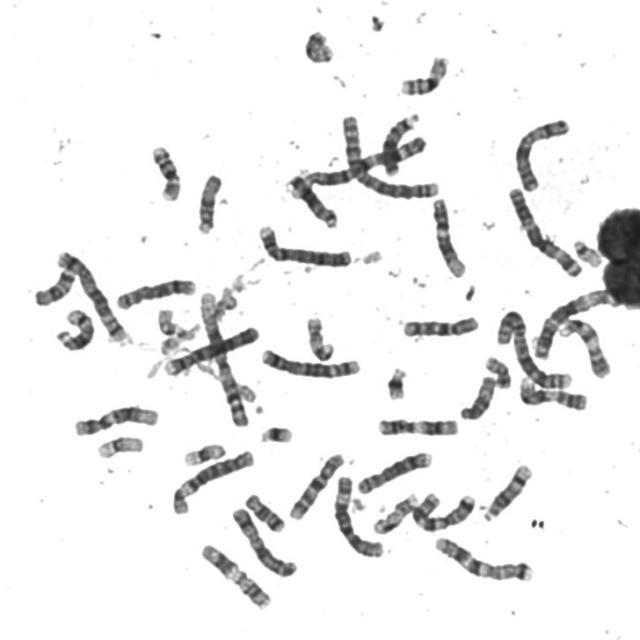A1: (290, 136, 429, 200), (195, 286, 254, 428)
A2: (337, 108, 442, 202), (492, 304, 576, 390)
A3: (503, 180, 586, 278), (528, 284, 620, 358)
B4: (161, 320, 263, 378), (254, 218, 355, 269)
B5: (52, 243, 134, 346), (257, 342, 363, 380)
C10: (285, 446, 348, 522), (398, 309, 483, 339)
C11: (196, 538, 275, 612), (373, 412, 462, 438)
C12: (428, 192, 470, 279), (69, 400, 162, 438)
C6: (167, 444, 258, 516), (329, 469, 388, 558)
C7: (430, 530, 537, 584), (408, 486, 478, 534)
C8: (353, 445, 436, 495), (112, 272, 200, 311)
C9: (554, 312, 614, 380), (515, 372, 591, 412)
D13: (284, 170, 340, 230), (376, 107, 423, 178)
D14: (479, 458, 536, 524), (52, 303, 97, 353)
D15: (192, 168, 226, 236), (456, 371, 498, 422)
E16: (396, 49, 452, 97), (146, 139, 185, 202)
E17: (369, 487, 421, 536), (302, 310, 338, 362)
E18: (241, 487, 288, 534), (30, 263, 79, 308)
F19: (92, 430, 147, 460), (178, 437, 228, 467)
F20: (480, 350, 514, 390), (303, 30, 335, 64)
G21: (382, 361, 412, 402), (256, 420, 296, 446)
G22: (154, 306, 196, 341), (570, 234, 606, 269)
X: (227, 502, 300, 579), (510, 111, 573, 193)
